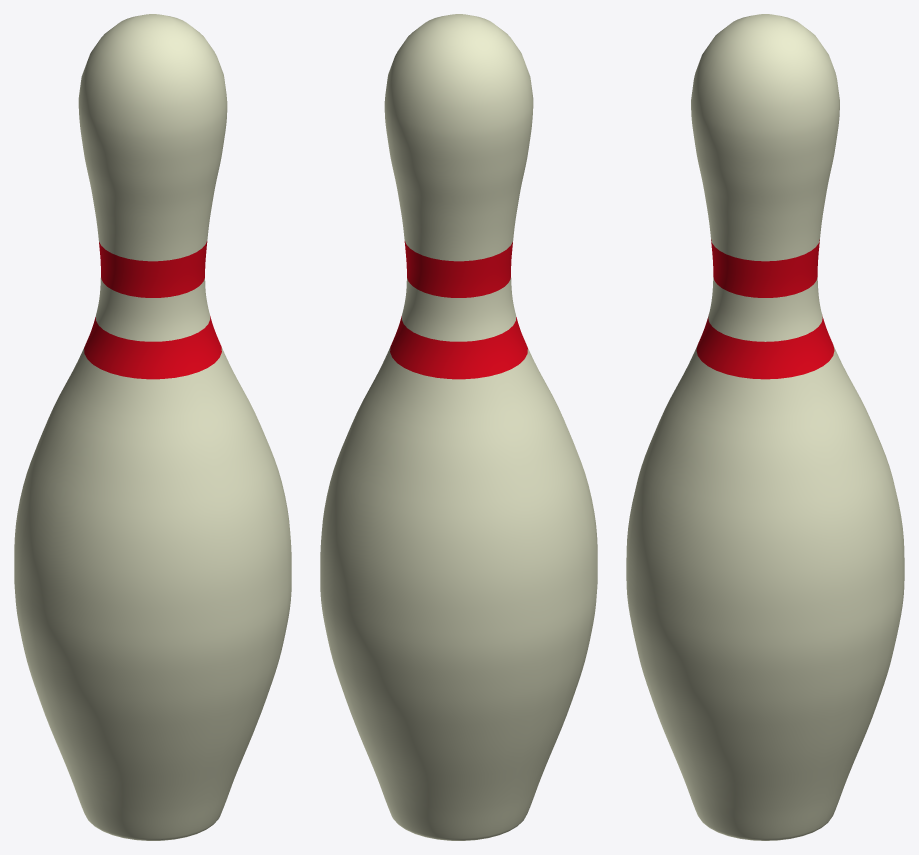
Rendered from Pin High Poly.fbx.
3 renders of one model, left to right at view 1: azimuth 30°, elevation 25°; view 2: azimuth 150°, elevation 25°; view 3: azimuth 270°, elevation 25°, orthographic.
Parts seen in each view (by area): view 1: Pin High Poly; view 2: Pin High Poly; view 3: Pin High Poly.
Part boxes in pixels (x1,y1,x2,y2): Pin High Poly: (14, 14, 291, 840); Pin High Poly: (320, 14, 597, 840); Pin High Poly: (626, 14, 904, 840).
Bounding box in the file's own units: 12.11 × 38.1 × 12.11.
